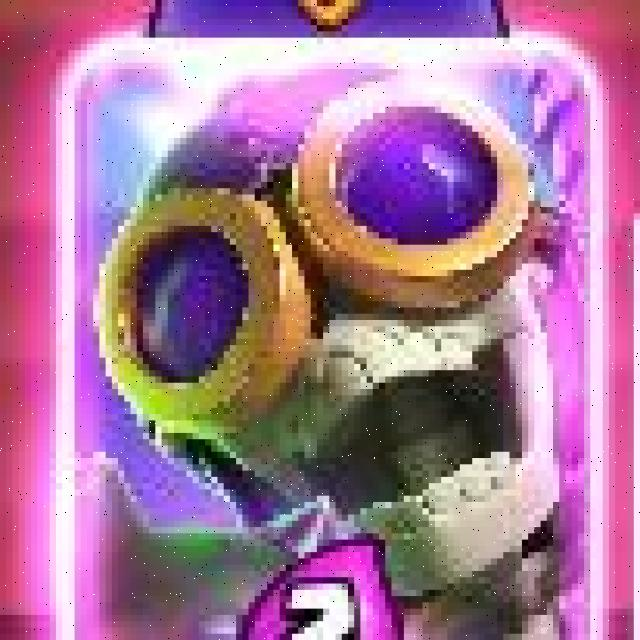Evolved_Bomber: (51, 32, 614, 640)
